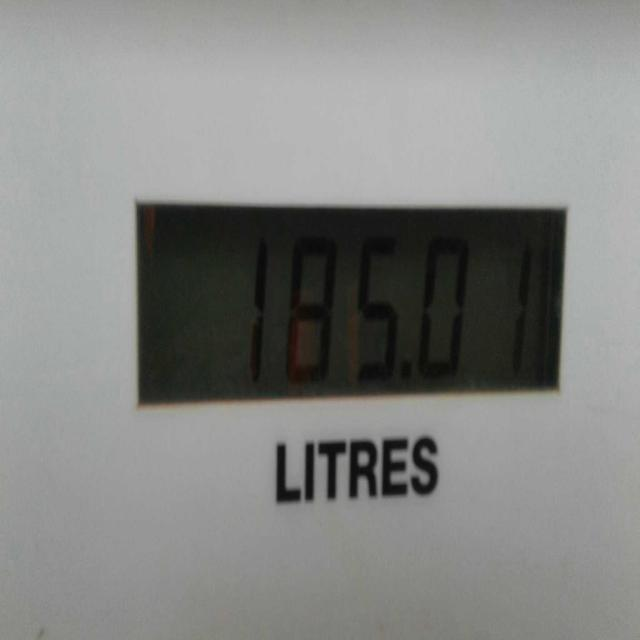.: (399, 350, 421, 400)
0: (421, 235, 468, 371)
1: (507, 240, 542, 378), (246, 234, 271, 384)
5: (356, 242, 404, 386)
8: (286, 234, 335, 388)
